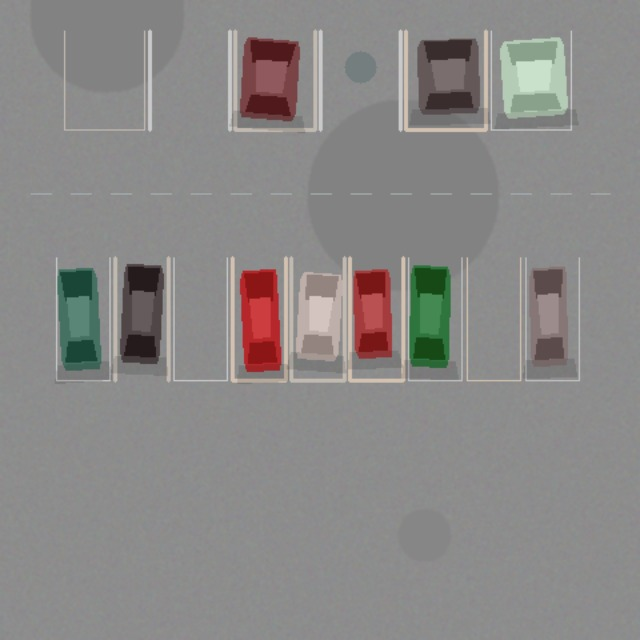space-empty: (64, 31, 144, 129), (149, 31, 229, 129), (320, 31, 400, 129), (173, 257, 227, 380), (467, 257, 520, 380)
space-occupied: (235, 31, 315, 129), (405, 31, 485, 129), (491, 31, 571, 129), (349, 257, 403, 380), (525, 257, 579, 380), (56, 257, 109, 380), (115, 257, 168, 380), (232, 257, 285, 380), (291, 257, 344, 380), (408, 257, 461, 380)
